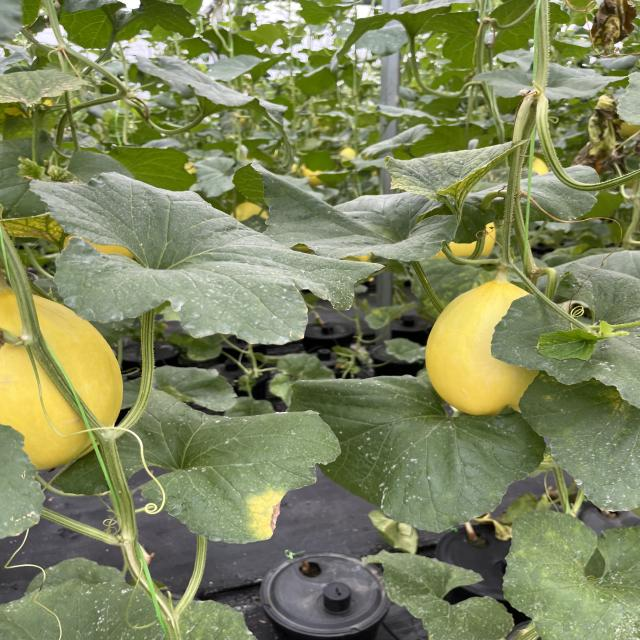alternaria leaf blight: (110, 388, 341, 548)
bacterial wilt: (586, 0, 637, 57)
downy mildew: (26, 167, 378, 342), (495, 502, 640, 640), (368, 551, 512, 640), (382, 142, 515, 206), (0, 62, 81, 112)
